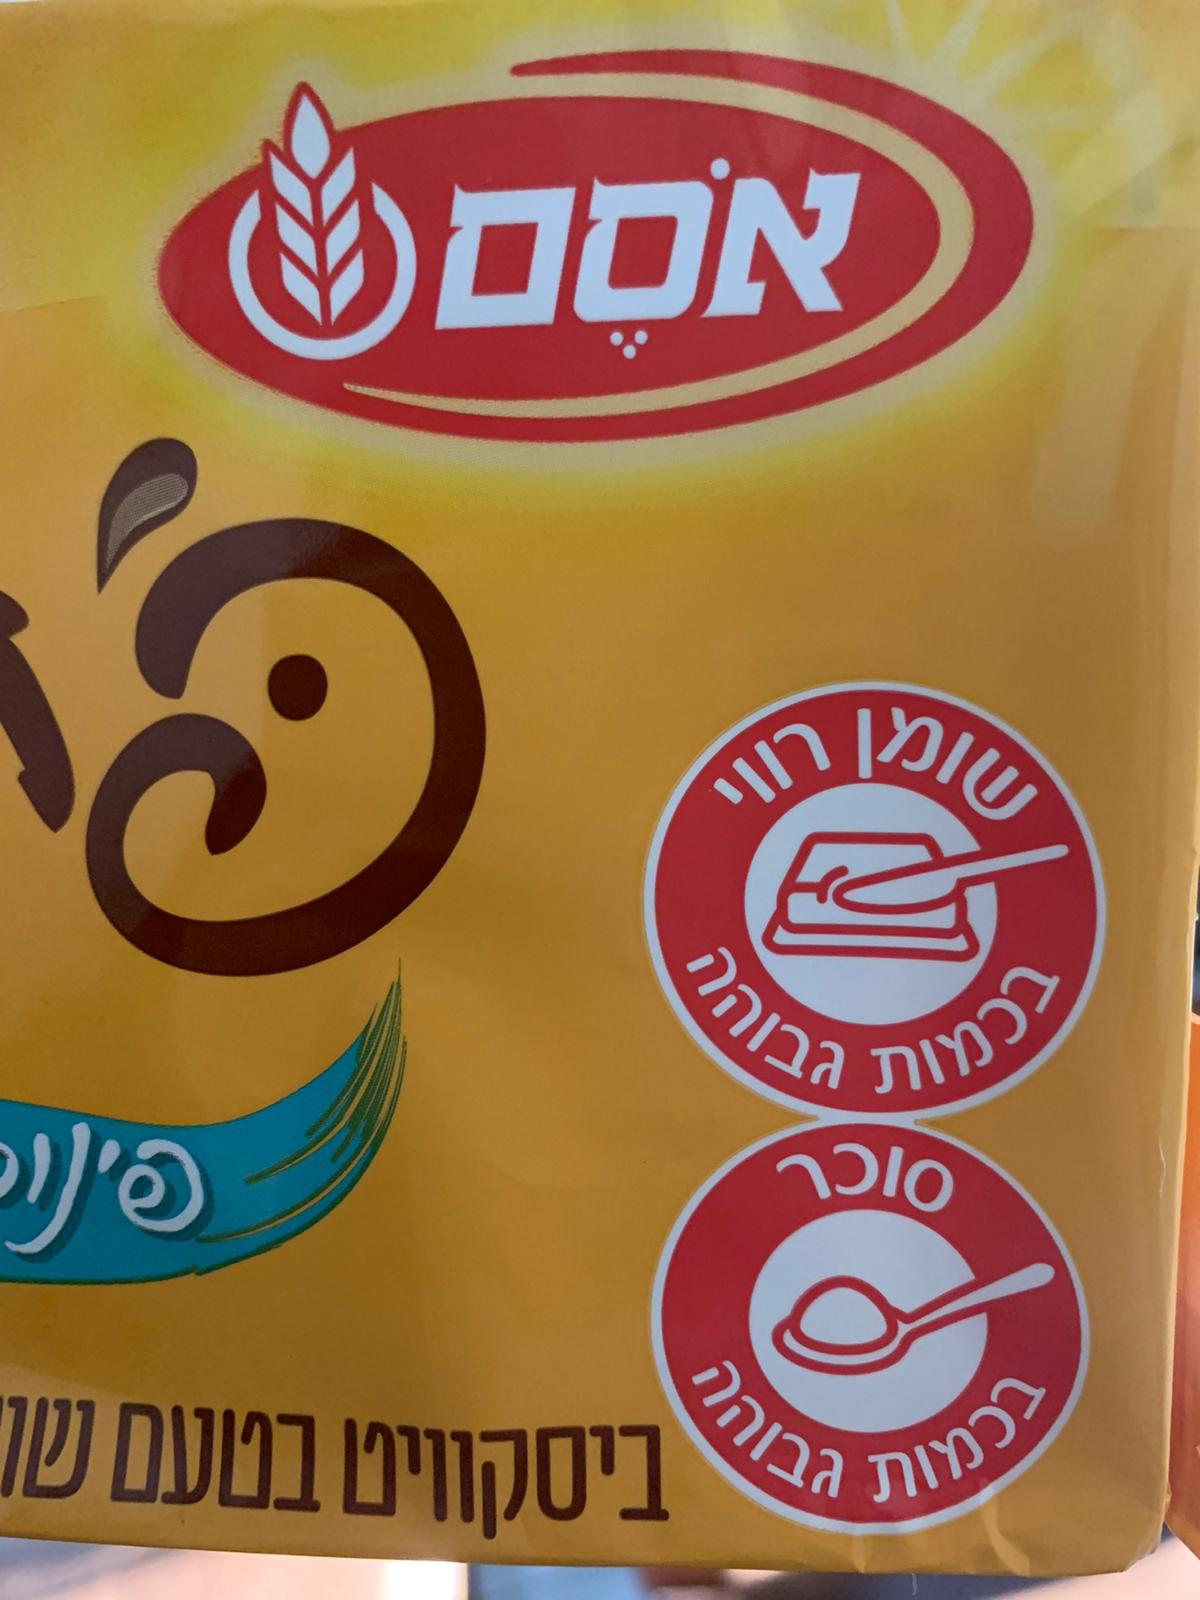fat: (645, 677, 1109, 1121)
sugar: (652, 1117, 1094, 1538)
